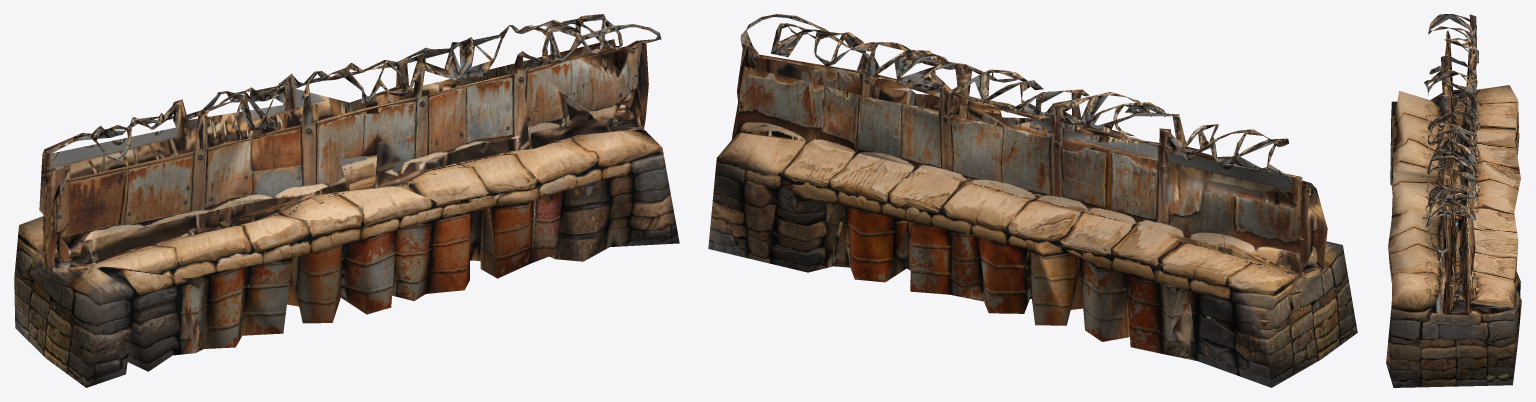
Rendered from Settle_Wall_Barricade.fbx.
3 renders of one model, left to right at view 1: azimuth 30°, elevation 25°; view 2: azimuth 150°, elevation 25°; view 3: azimuth 270°, elevation 25°, orthographic. The views are drawn at different scales.
Visible parts, largest first — view 1: texture_mapping; view 2: texture_mapping; view 3: texture_mapping.
Part boxes in pixels (x1,y1,x2,y2): texture_mapping: [14, 14, 679, 387]; texture_mapping: [708, 14, 1357, 387]; texture_mapping: [1386, 14, 1521, 387].
Bounding box in the file's own units: 0.9881 × 0.2463 × 0.3387.
1 material, 1 textured.
